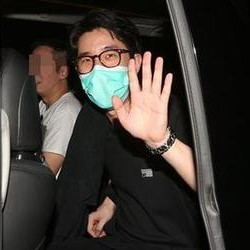mask: (73, 51, 134, 116)
